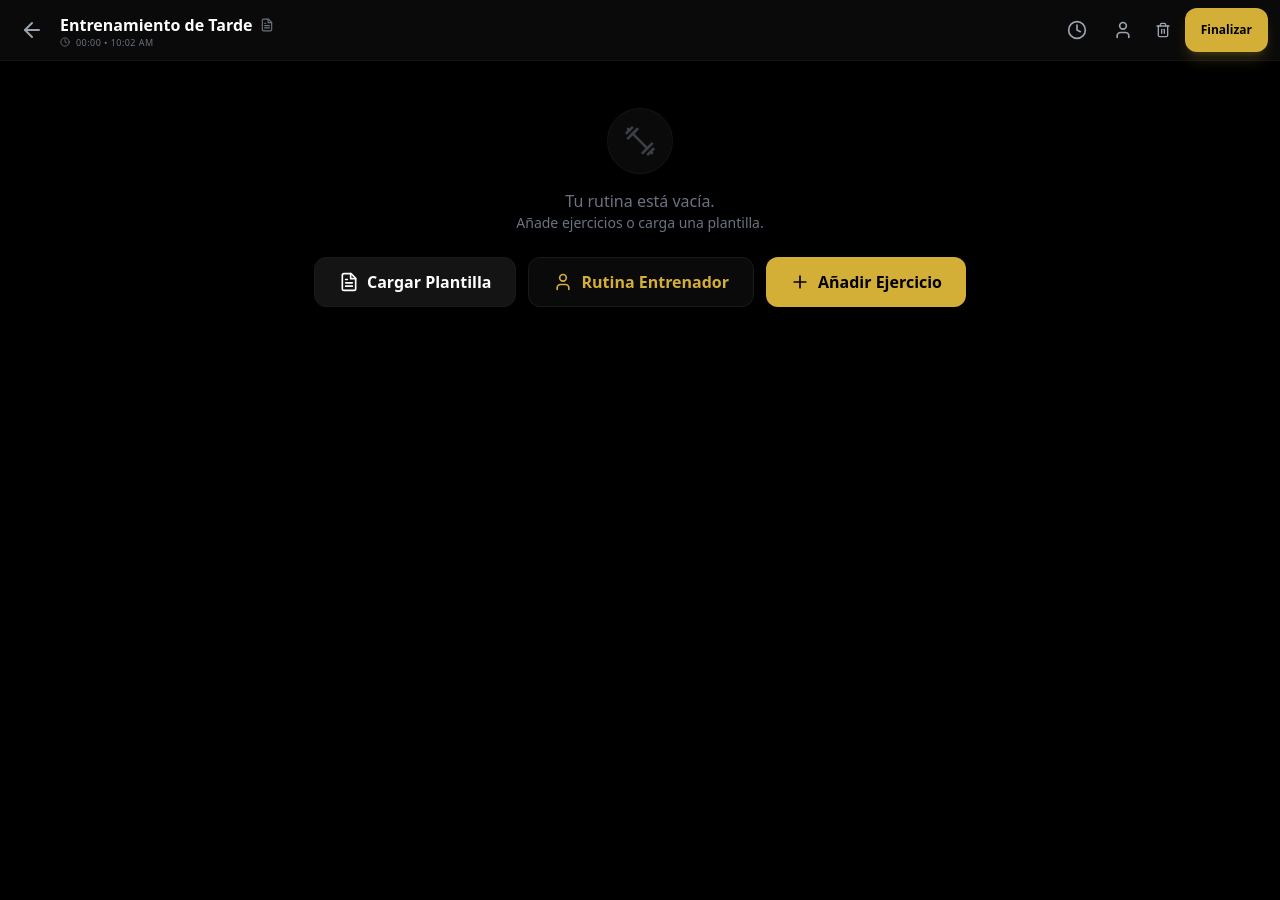
it: WorkoutEditor › can set global rest time through header modal
Add an exercise to have a block
Click the button with test id "btn-add-block" at (866, 282), box [766,257,966,307]
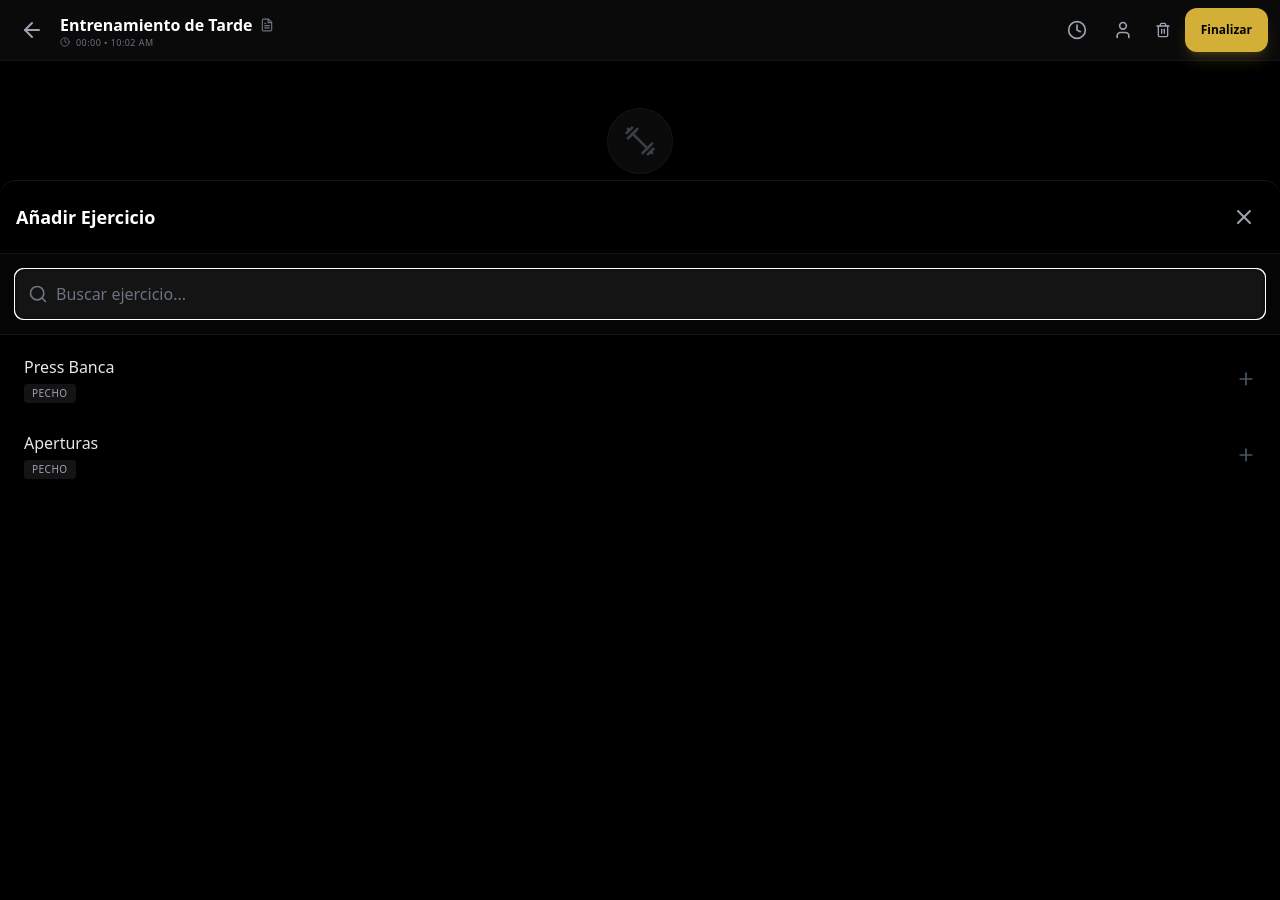
Click the button with test id "exercise-item-ex-1" at (69, 367), box [8,343,1272,415]
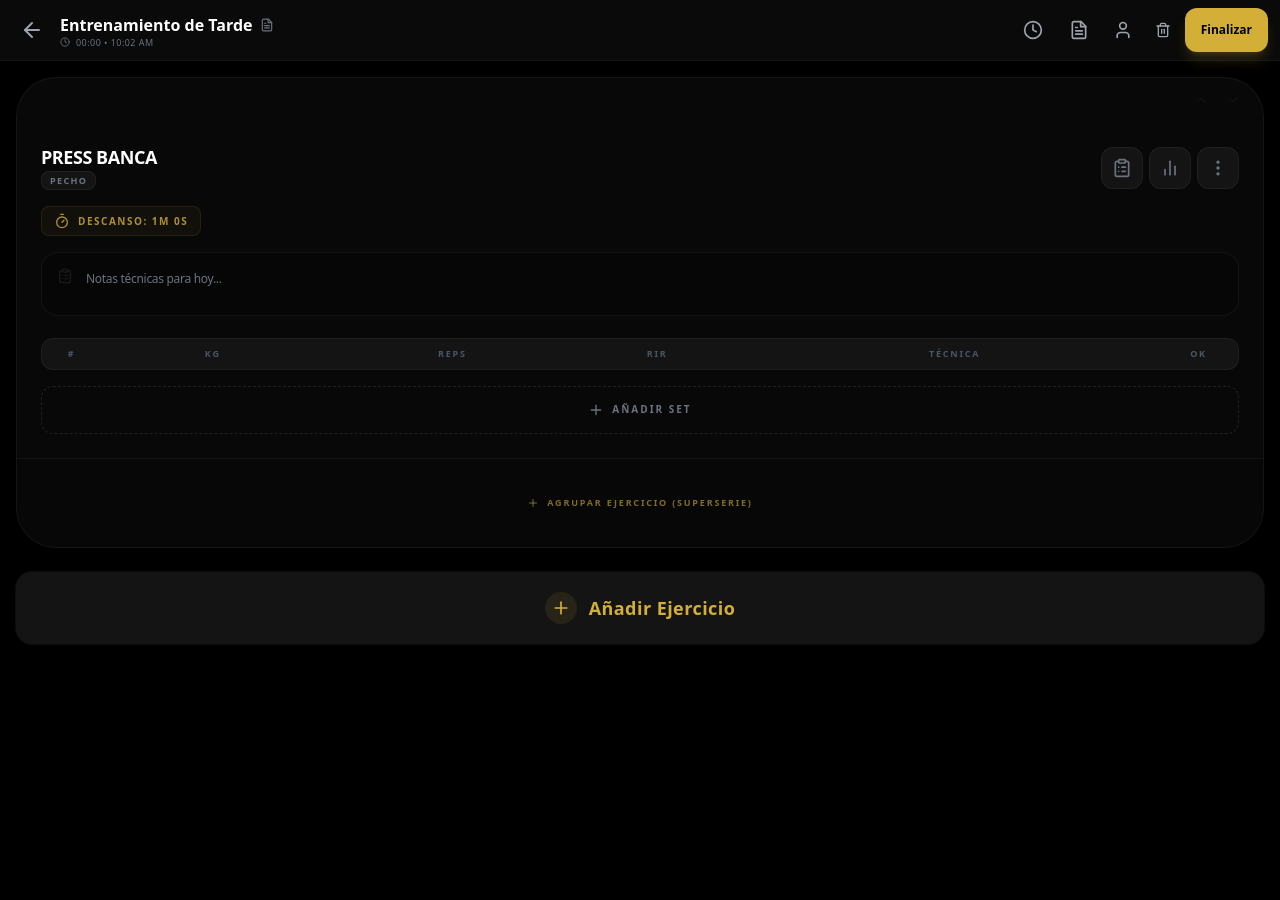
Click global timer icon in header
Click the button with test id "btn-global-rest" at (1033, 30), box [1013,10,1053,50]
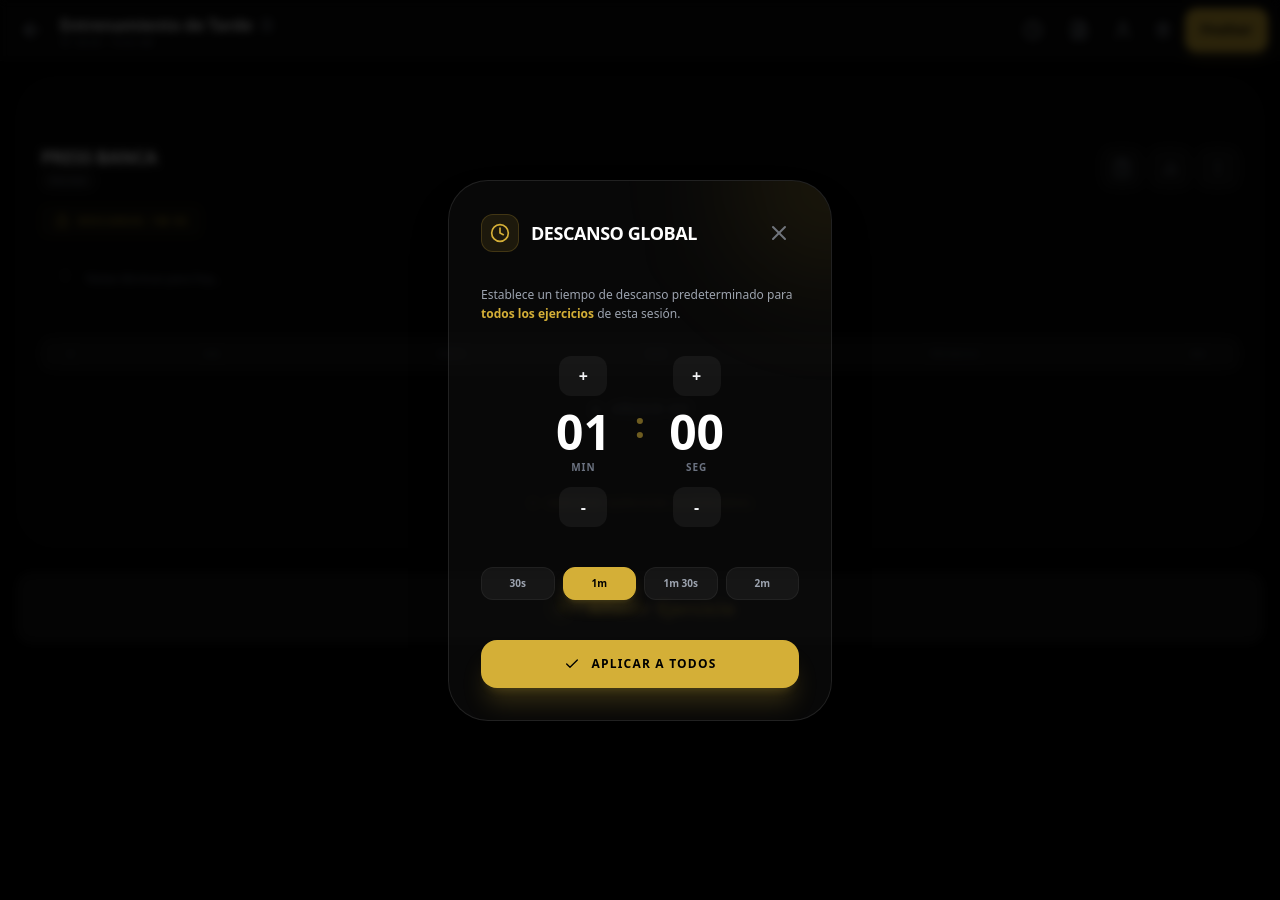
Expected: the heading "Descanso Global" is shown, [531,218,697,246]
Click a preset (30s)
Click the button "30s" at (518, 583), box [481,566,554,600]
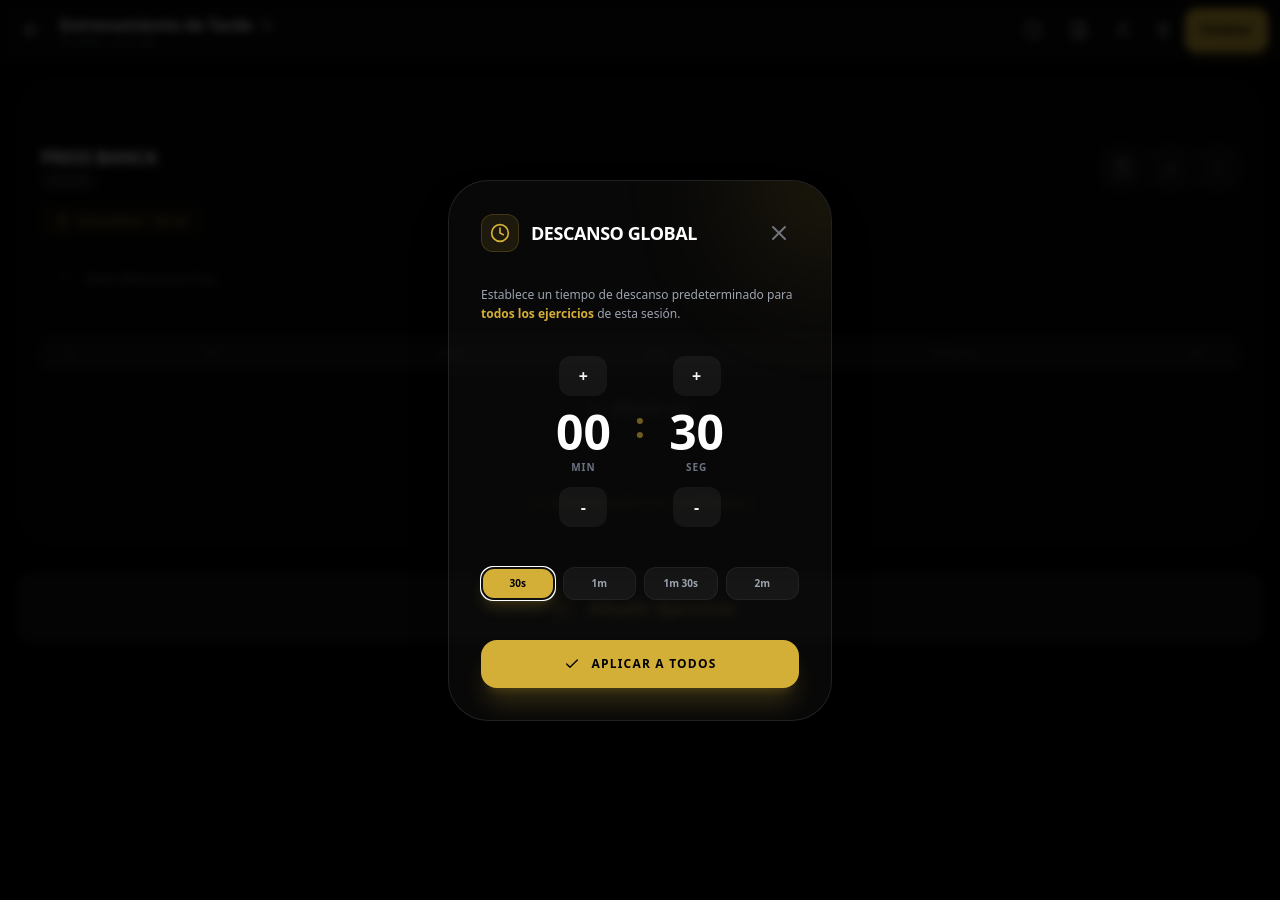
5. Apply
Click the button "Aplicar a todos" at (640, 664), box [481,640,799,688]
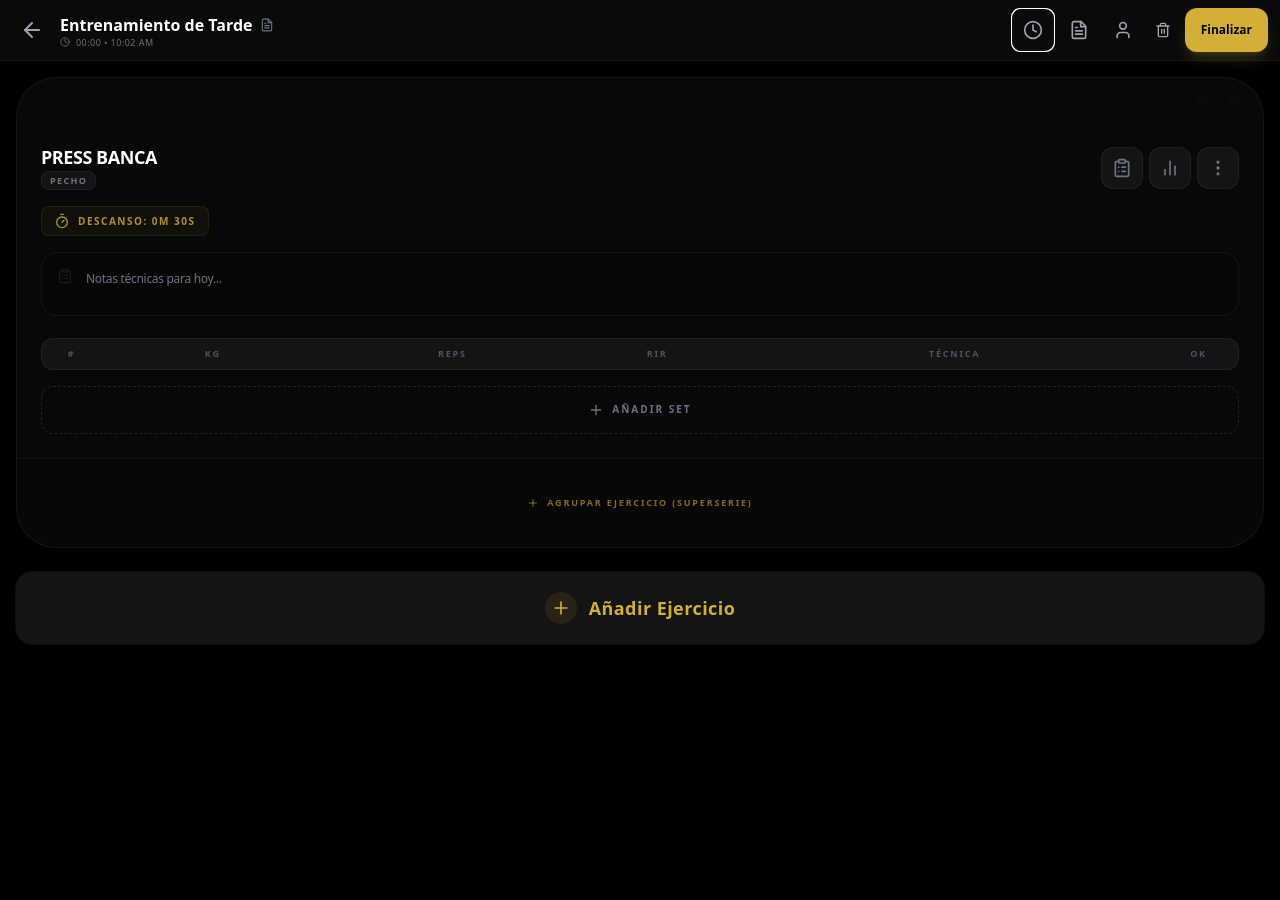
Expected: the text "Descanso: 0m 30s" is shown, [78,214,196,228]
